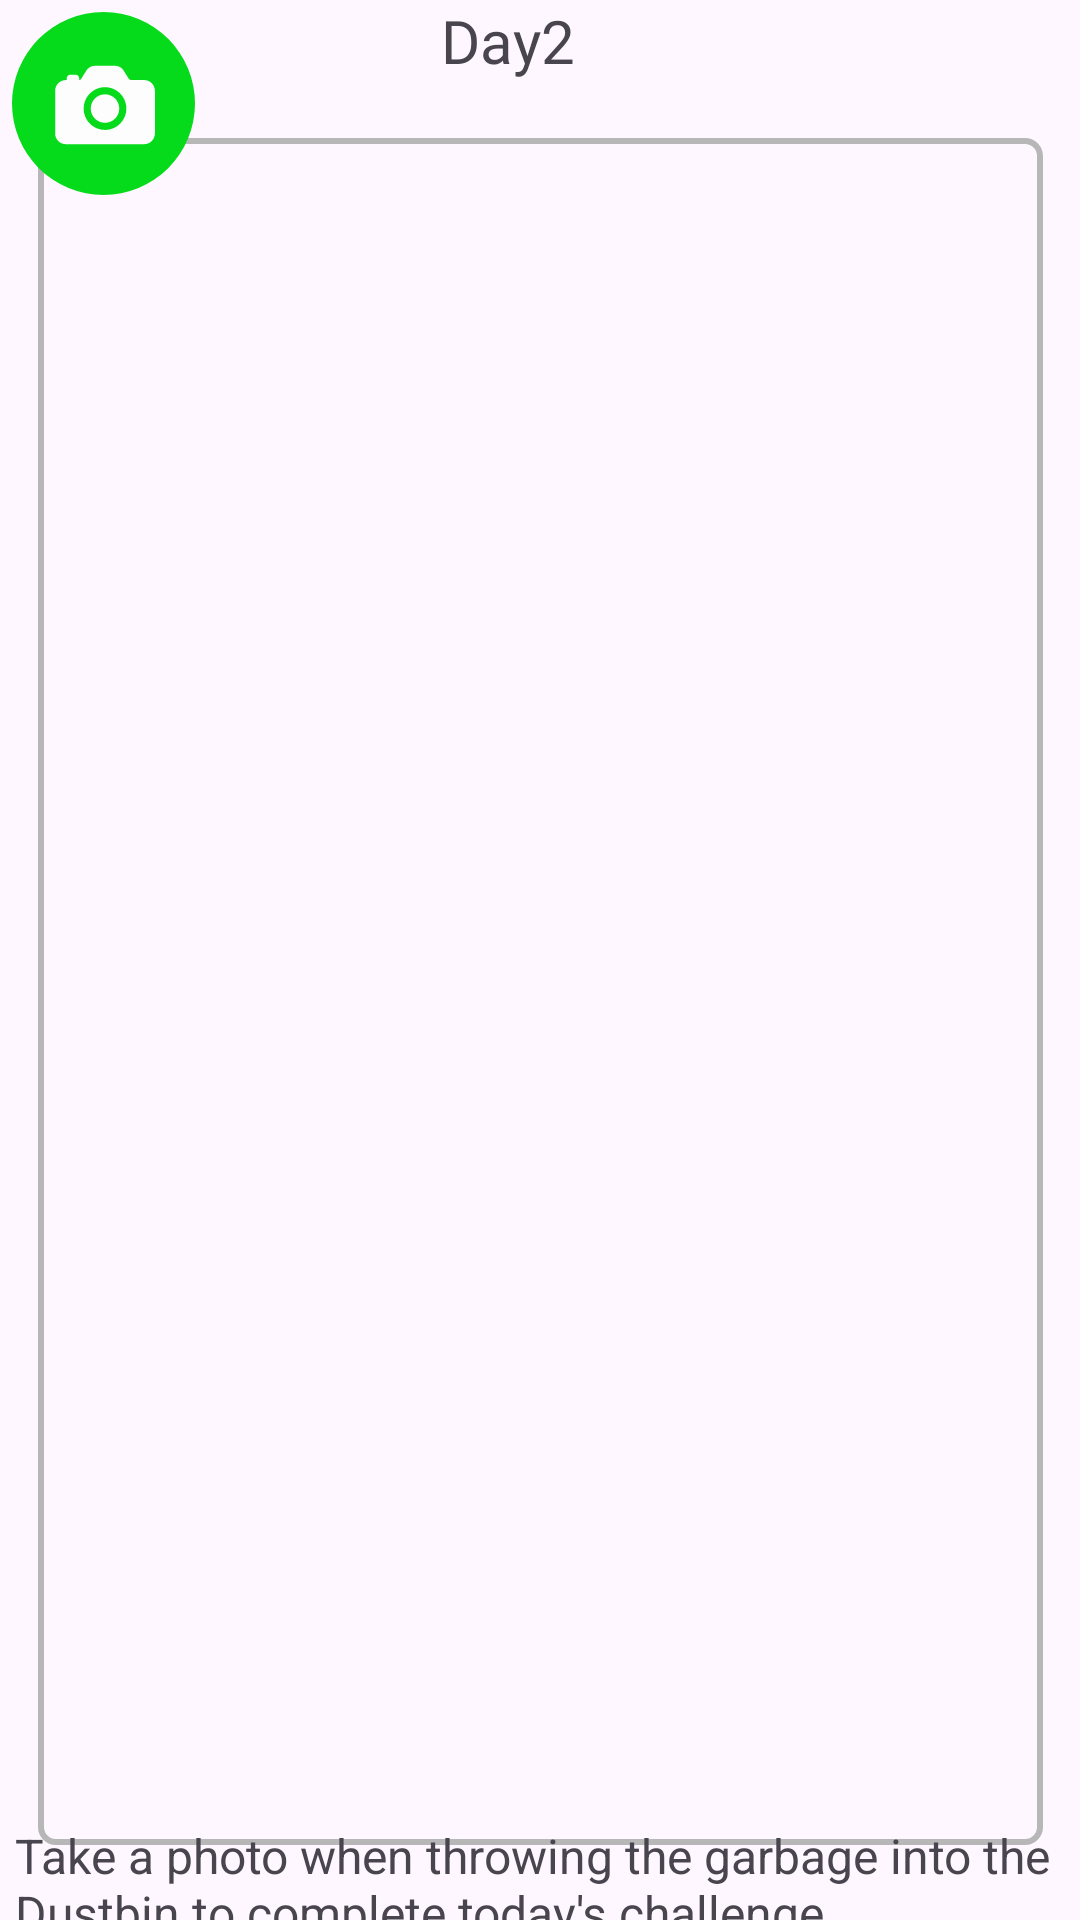

Where icons sit on this 1080 × 1920 app screen, as (x1, y1, x2, y2):
camera: (12, 12, 207, 207)
